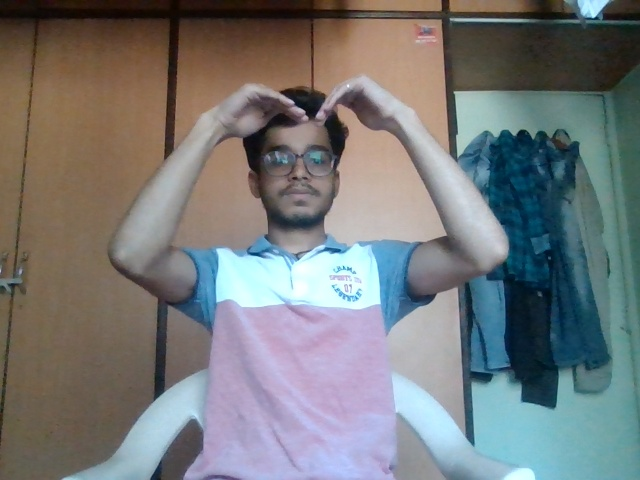we: (190, 67, 440, 171)
